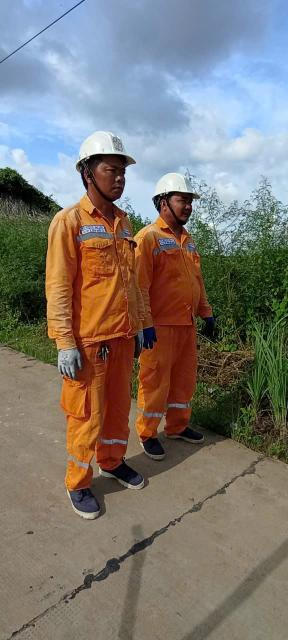gloves: (57, 343, 99, 385), (130, 315, 163, 353), (198, 315, 222, 342), (126, 326, 143, 355)
helmet: (62, 114, 139, 172), (142, 172, 206, 203)
shoes: (60, 479, 114, 535), (98, 448, 157, 493), (124, 425, 176, 468), (163, 409, 207, 447)
